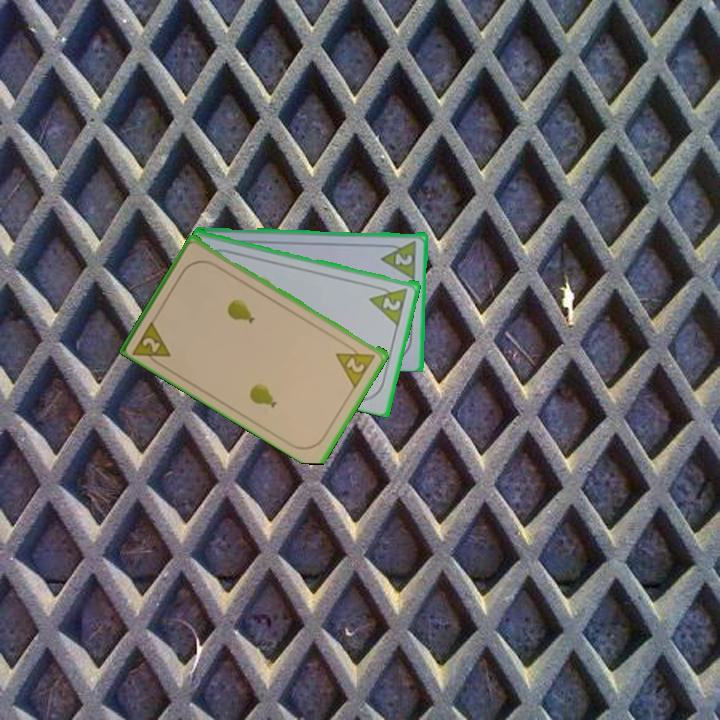2p: (130, 316, 174, 370), (332, 340, 379, 390), (379, 293, 404, 314), (392, 250, 416, 268)
